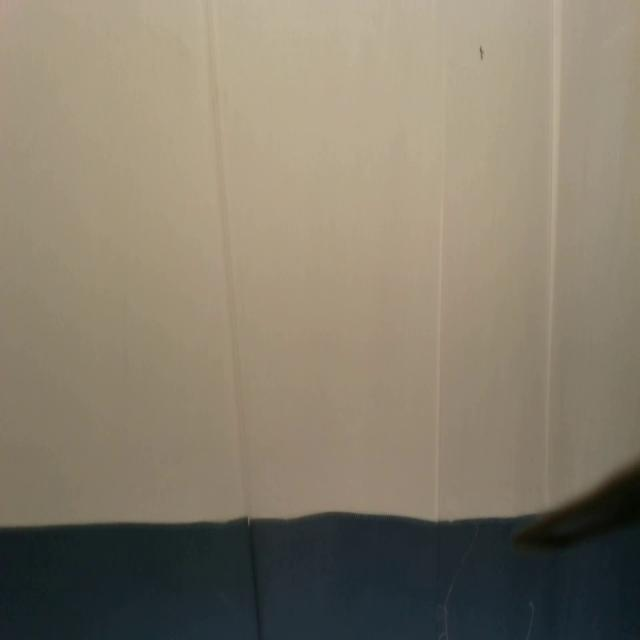crease: (203, 0, 263, 640), (545, 0, 564, 500), (435, 36, 447, 592)
hole: (480, 42, 485, 63)
